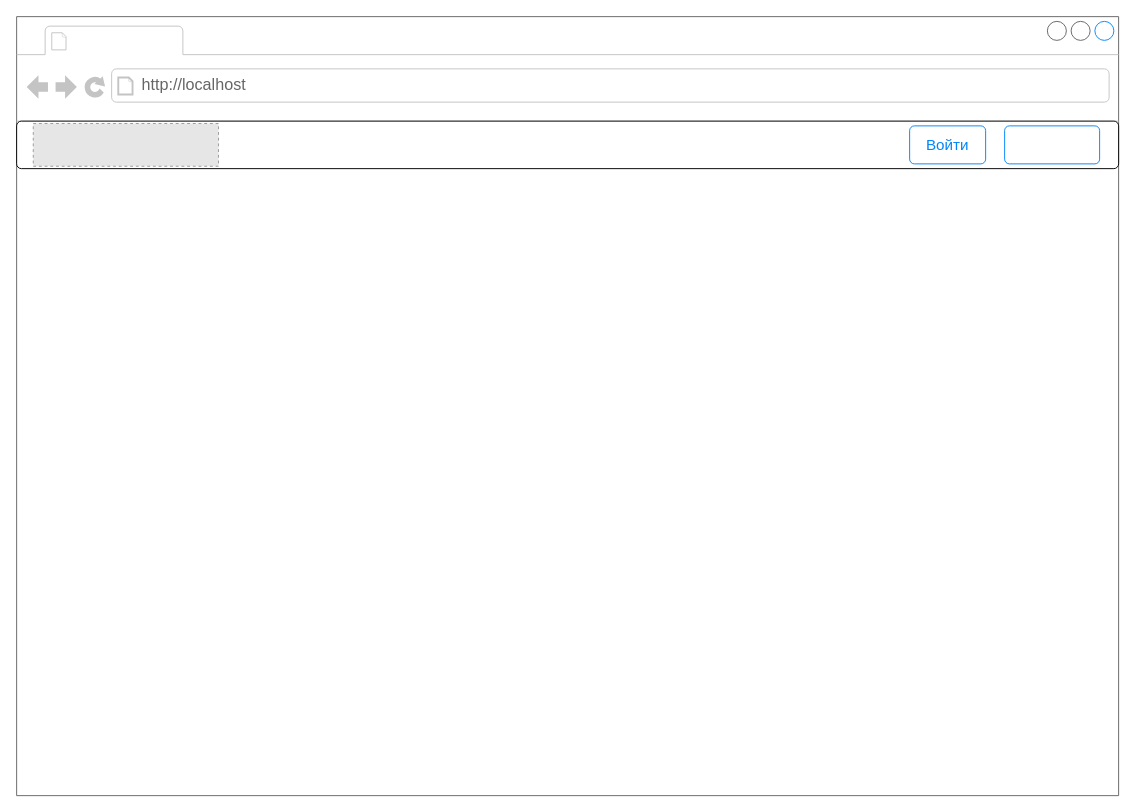
Some shapes in this 1135 by 812 pixel diagram are drawn without their labels. Grey dashed boxes stand in for pictures. The shapes that lost their labels are listed below. From the top down, each one's centre as x and y in pixels, then its label:
pixel 125 40: ИС "Обслужи
pixel 1052 144: Регистрация
